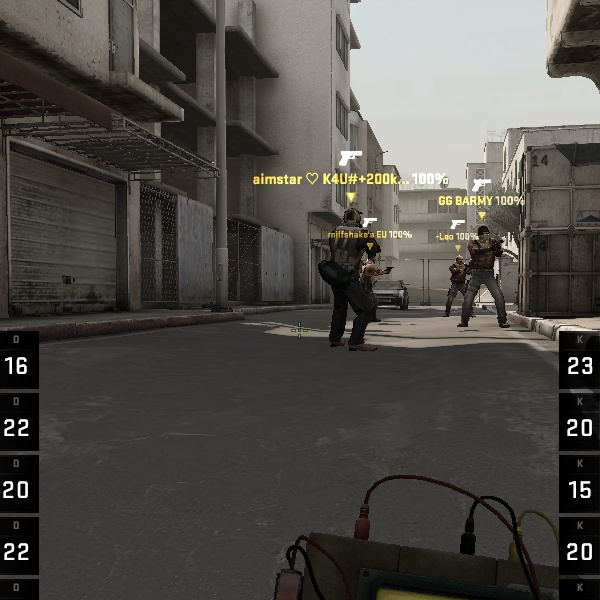t_body: (312, 203, 398, 355), (442, 220, 506, 333)
t_head: (335, 202, 372, 238)
